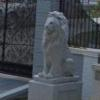Statue: (32, 7, 79, 94)
